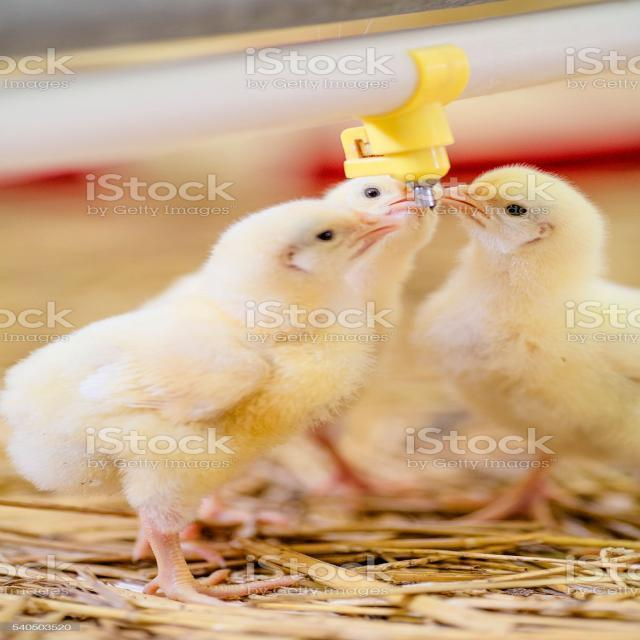poussin: (0, 198, 404, 622), (441, 170, 640, 546), (306, 176, 438, 515)
